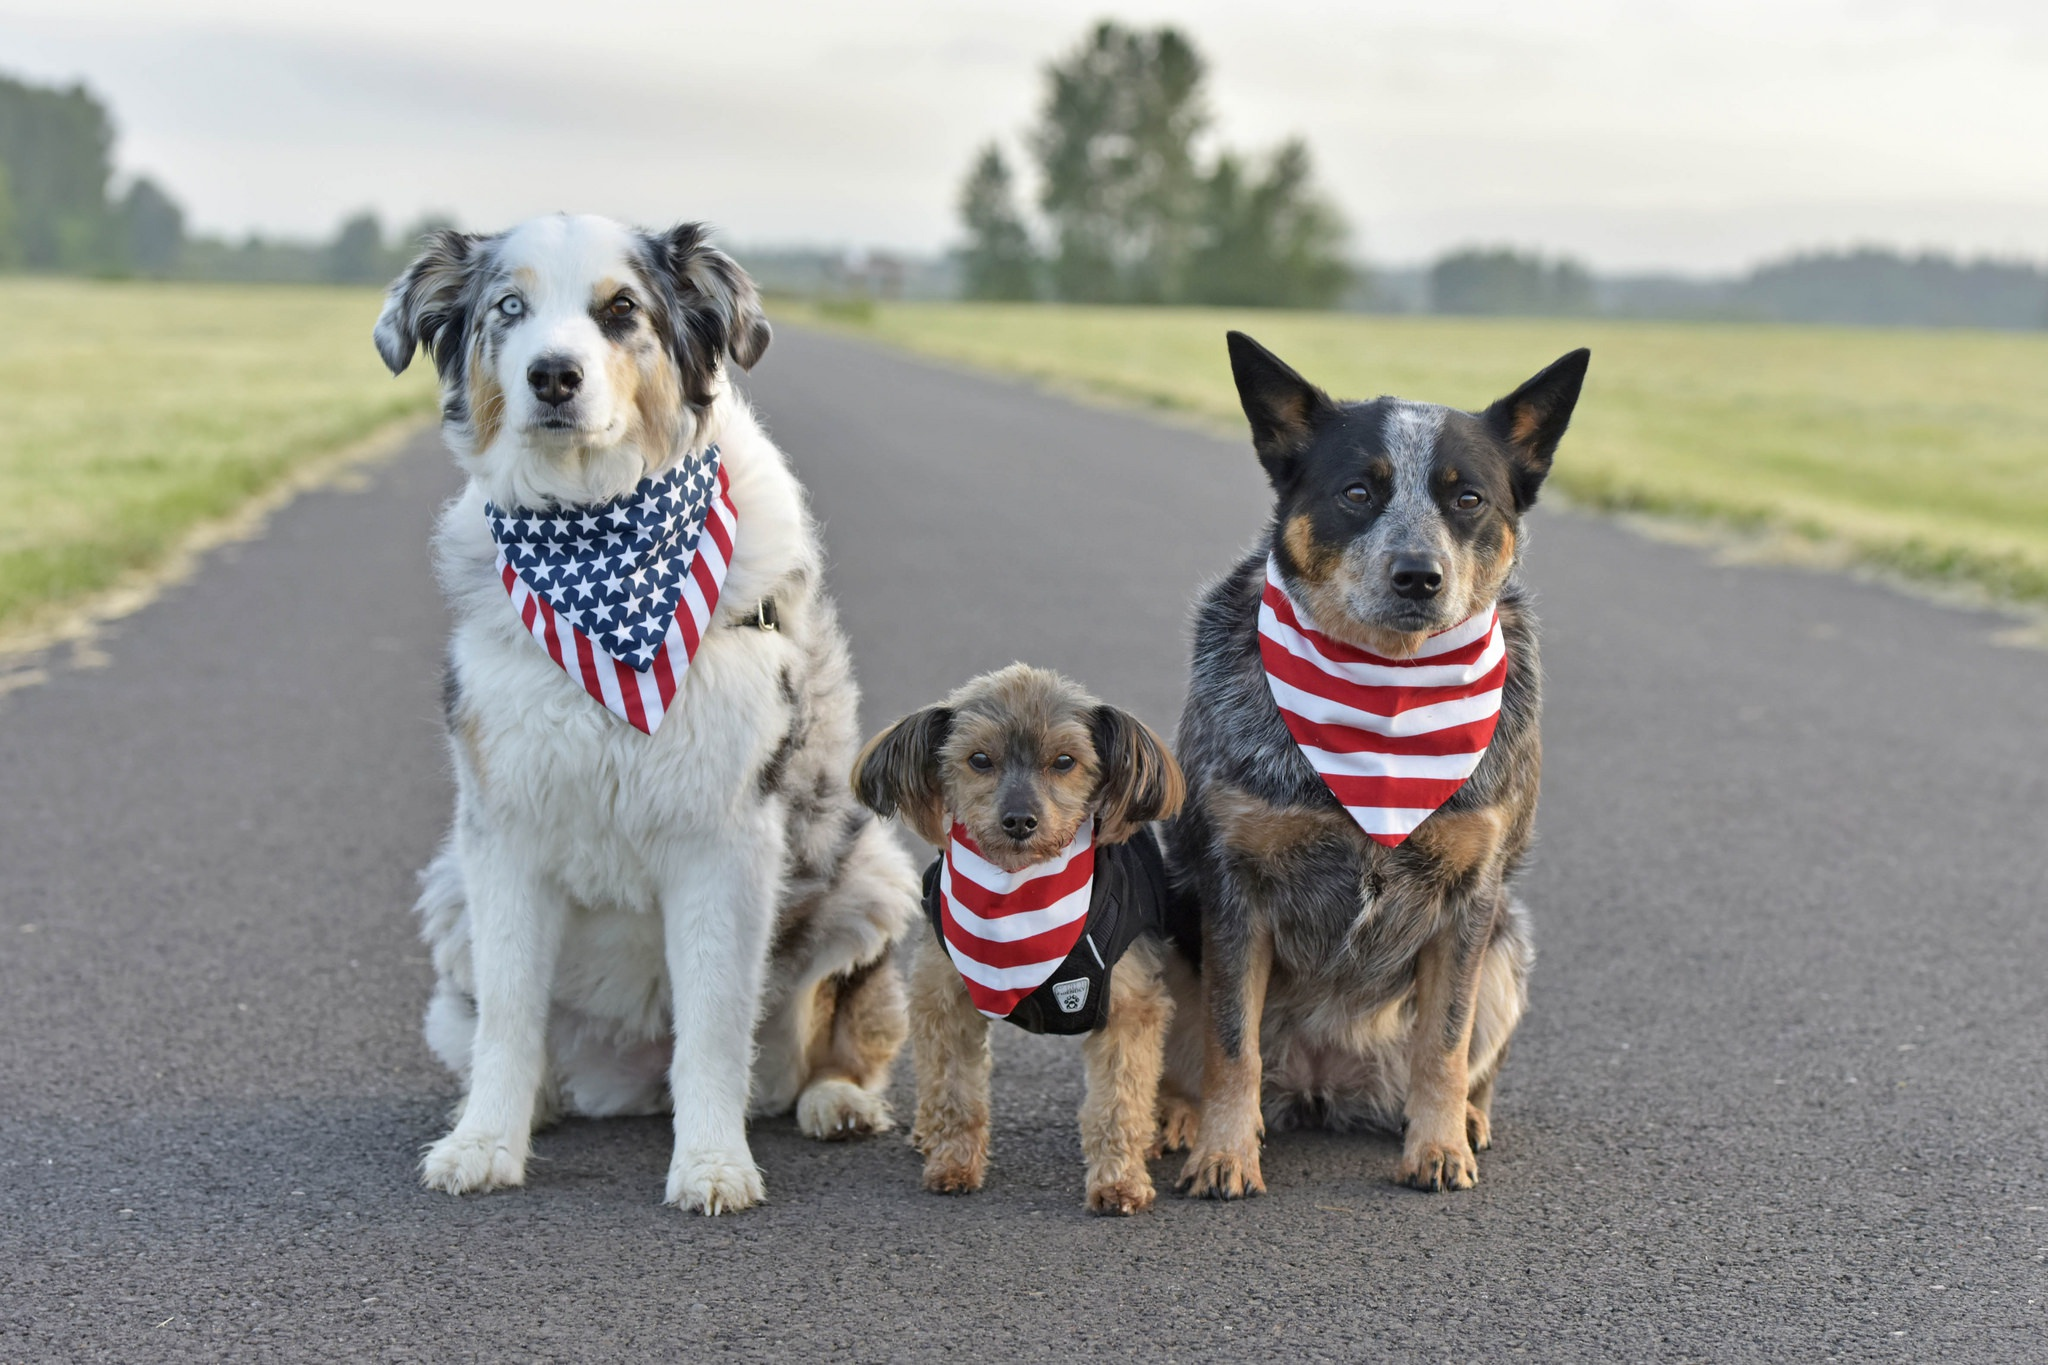kopek: (344, 212, 912, 1184), (1160, 305, 1628, 1258), (850, 666, 1180, 1232)
